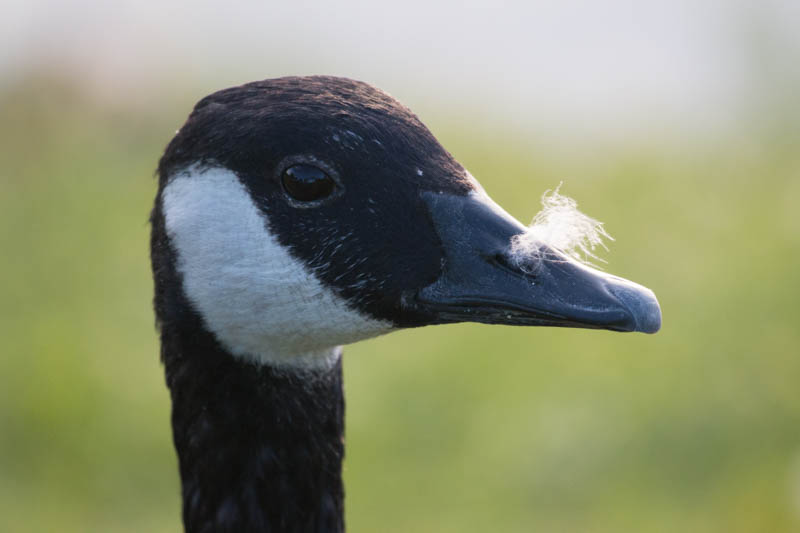goose-head: (148, 76, 662, 372)
